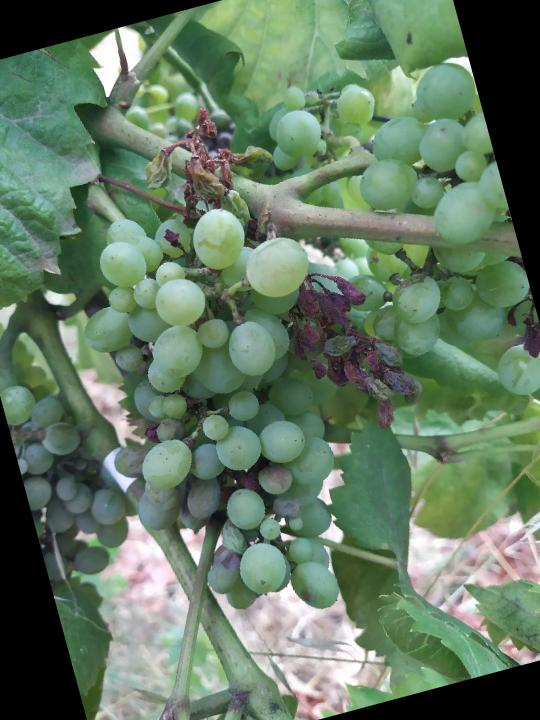grape: (36, 127, 403, 657)
